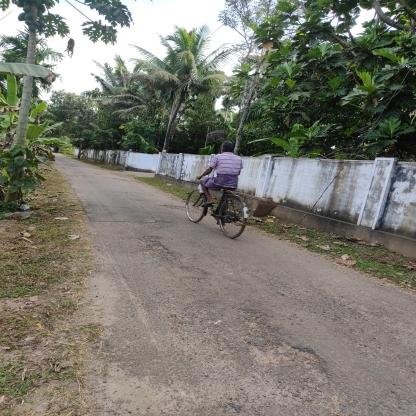bike: (181, 174, 260, 241)
